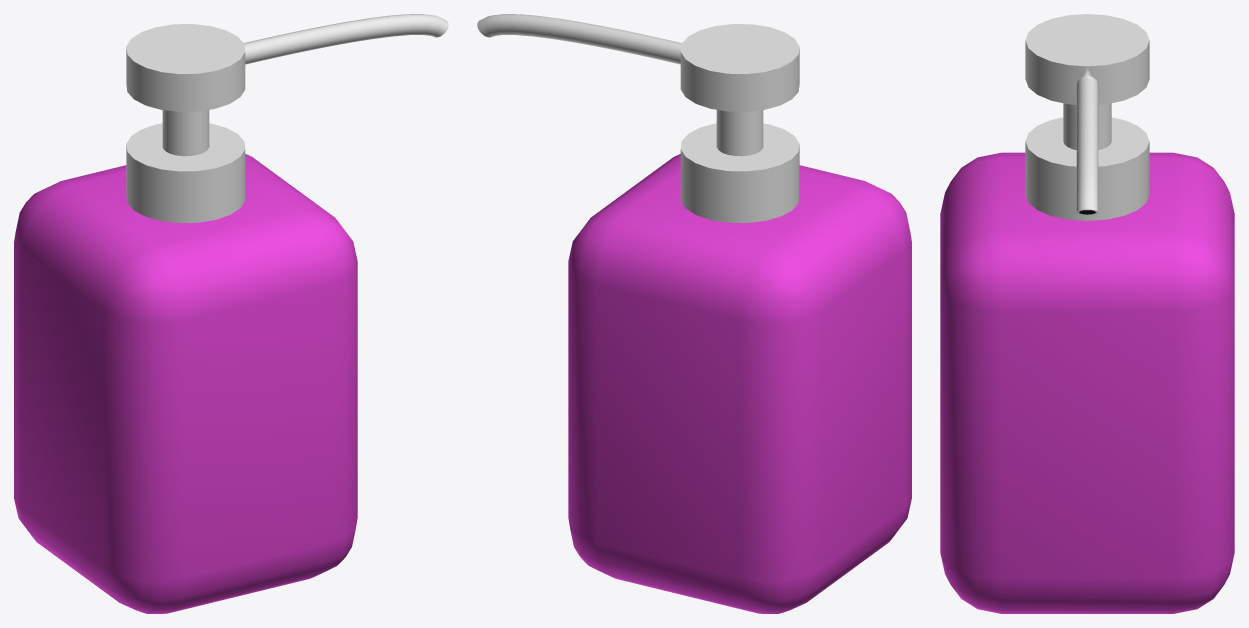
Rendered from HandSoap.glb.
3 renders of one model, left to right at view 1: azimuth 30°, elevation 25°; view 2: azimuth 150°, elevation 25°; view 3: azimuth 270°, elevation 25°, orthographic. The views are drawn at different scales.
Parts seen in each view (by area): view 1: hand_soap_bottle, hand_soap_plunger, hand_soap_lid; view 2: hand_soap_bottle, hand_soap_plunger, hand_soap_lid; view 3: hand_soap_bottle, hand_soap_plunger, hand_soap_lid.
Part boxes in pixels (x1,y1,x2,y2): hand_soap_bottle: (14,154,357,613); hand_soap_plunger: (126,14,448,156); hand_soap_lid: (126,123,245,222); hand_soap_bottle: (568,154,911,613); hand_soap_plunger: (477,14,799,156); hand_soap_lid: (680,123,799,222); hand_soap_bottle: (940,152,1234,613); hand_soap_plunger: (1025,14,1149,215); hand_soap_lid: (1025,117,1149,220).
Size of the model in its own units: 0.6154 by 0.7847 by 0.3935.
